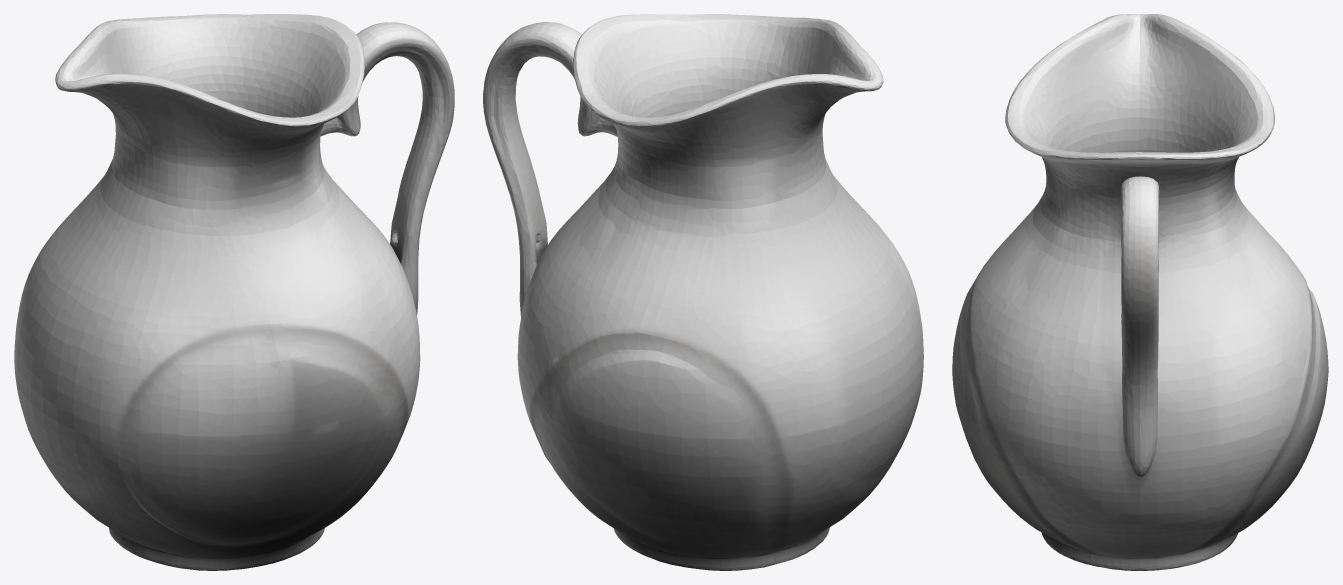
Rendered from porcelain-milk-jug-3d.jpeg.glb.
The picture shows the model from 3 angles, left to right: view 1: azimuth 30°, elevation 25°; view 2: azimuth 150°, elevation 25°; view 3: azimuth 270°, elevation 25°; orthographic projection. The views are drawn at different scales.
Visible parts, largest first — view 1: world; view 2: world; view 3: world.
Boxes of the visible parts, x1,y1,x2,y2 form: world: (14,14,454,570); world: (483,14,923,570); world: (952,14,1328,570).
Size of the model in its own units: 0.8623 by 0.9984 by 0.7459.
1 material, 1 textured.
